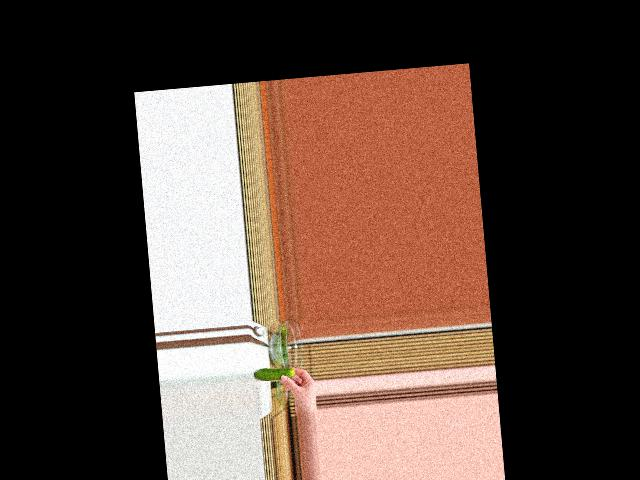cucumber: (253, 366, 295, 382)
